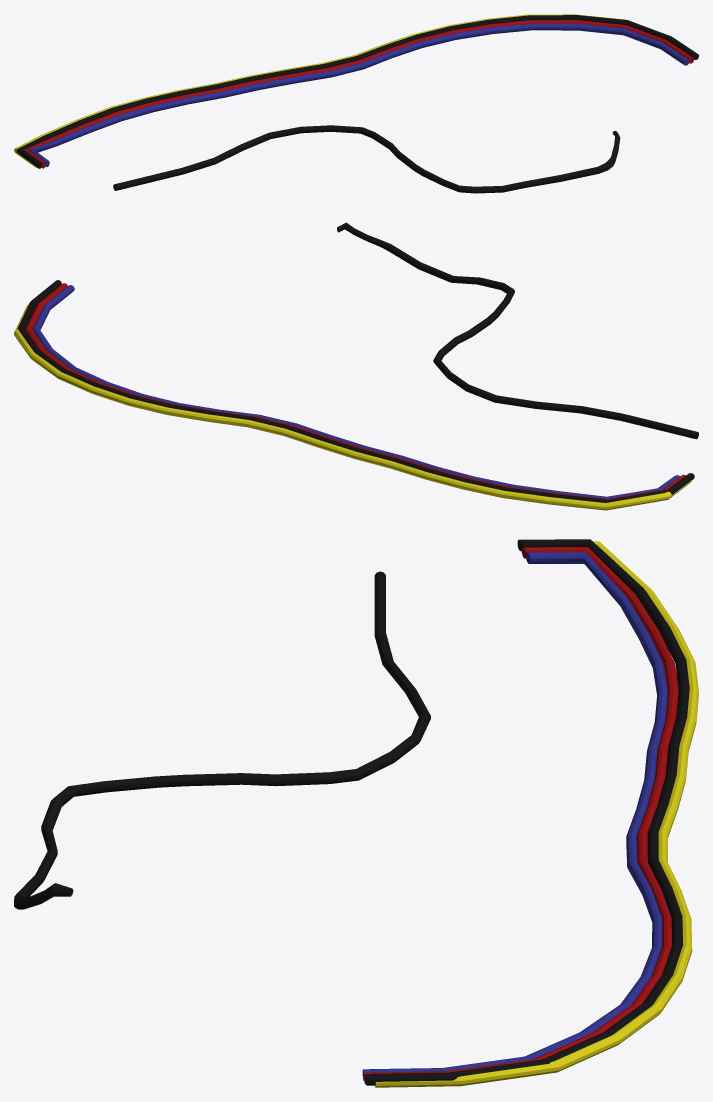
The model's file is Wires.fbx.
3 views of the same model, one above another, from view 1: azimuth 30°, elevation 25°; view 2: azimuth 150°, elevation 25°; view 3: azimuth 270°, elevation 25° (orthographic). The views are drawn at different scales.
Parts seen in each view (by area): view 1: Wires; view 2: Wires; view 3: Wires.
Boxes of the visible parts, box(x1,y1,x2,y2) form: Wires: box(14, 14, 698, 193); Wires: box(14, 222, 698, 510); Wires: box(14, 539, 698, 1087).
Bounding box in the file's own units: 7.27 × 0.4065 × 4.01.
1 material, 1 textured.
